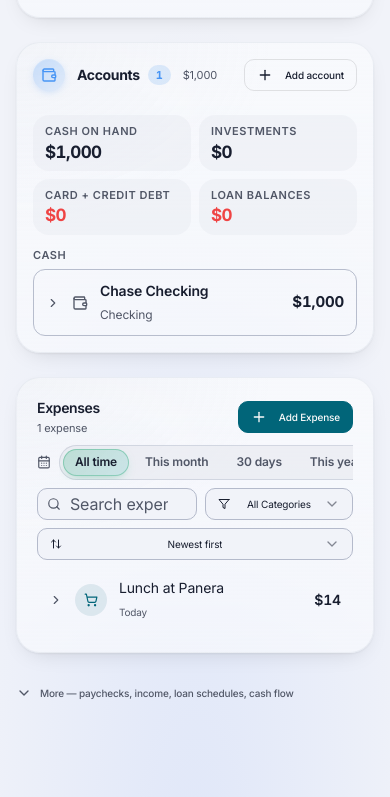
Test: Finance: an expense keeps the date the user chose › edit: a half-typed date is refused, never saved as 'unchanged' with an 'updated' toast
(page scrolled)
Click the button "Lunch at Panera Today $14" at (91, 600), box x1=37 y1=568 x2=353 y2=632
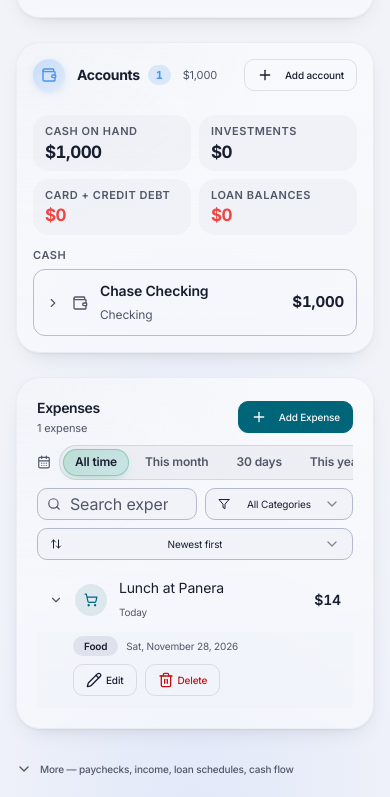
Click the button with test id "btn-edit-expense-exp-1" at (105, 680), box x1=73 y1=664 x2=136 y2=696
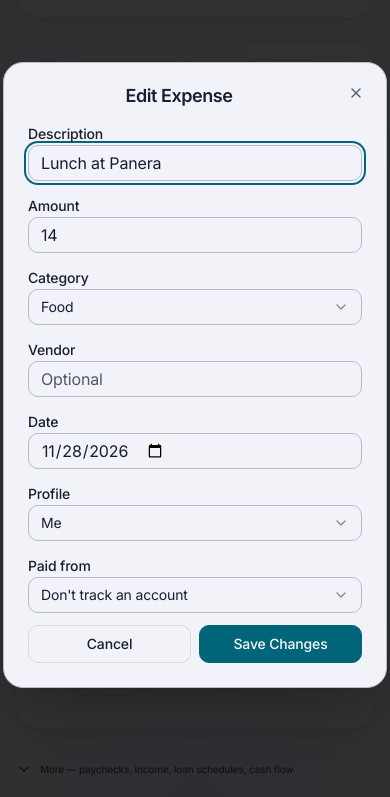
Clear the date field with test id "input-edit-expense-date" at (195, 451), box x1=28 y1=433 x2=362 y2=469
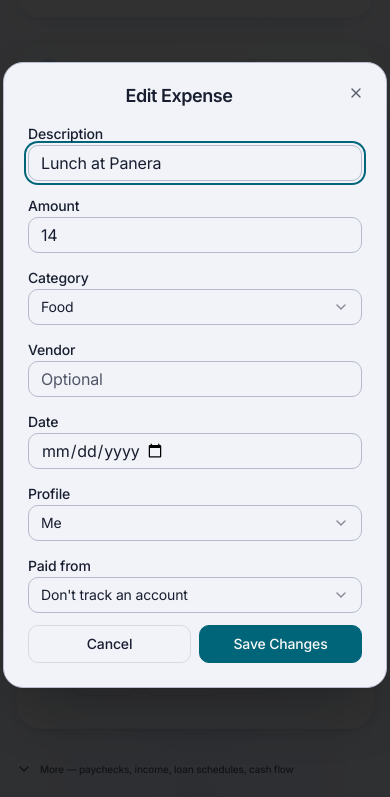
Click the button with test id "btn-save-edit-expense" at (280, 644), box x1=199 y1=625 x2=362 y2=663
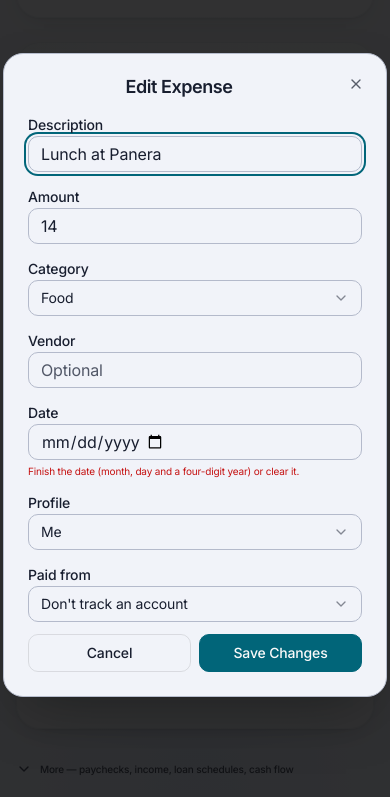
Now the message "Finish the date (month, day and a four-digit year) or clear it." is shown, box x1=28 y1=465 x2=299 y2=477
